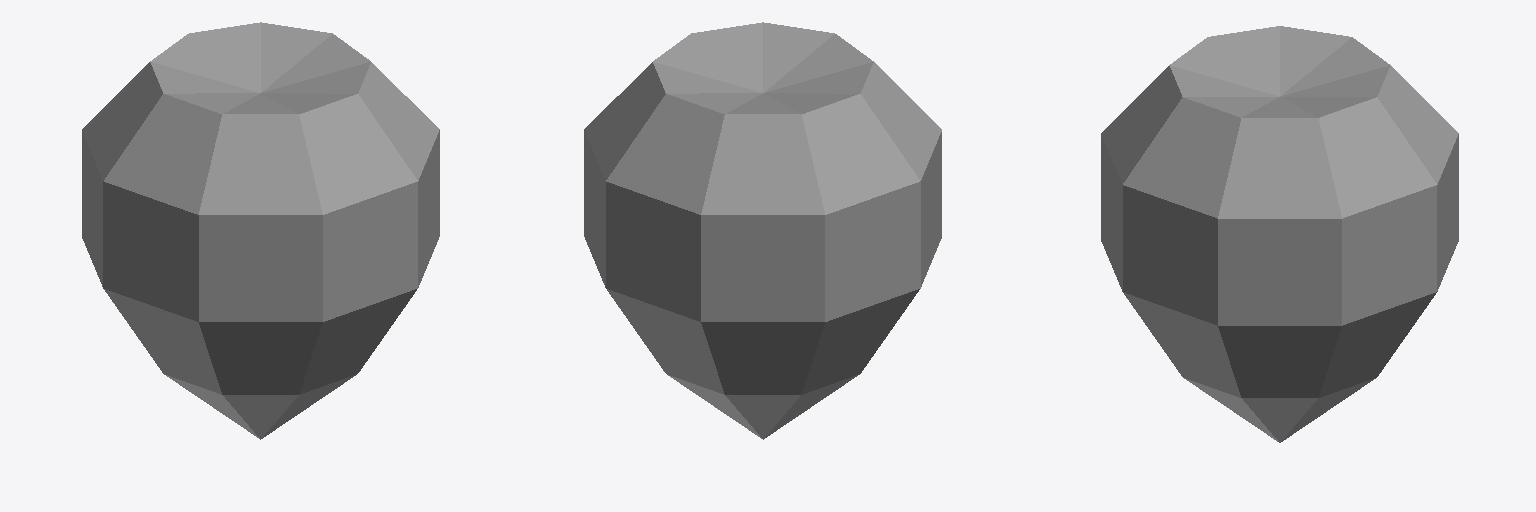
File: stone2.obj
The picture shows the model from 3 angles: view 1: azimuth 30°, elevation 25°; view 2: azimuth 150°, elevation 25°; view 3: azimuth 270°, elevation 25°; orthographic projection.
Visible parts, largest first — view 1: Sphere; view 2: Sphere; view 3: Sphere.
Part boxes in pixels (x1,y1,x2,y2): Sphere: (82, 22, 439, 439); Sphere: (584, 22, 941, 439); Sphere: (1101, 26, 1458, 442).
Size of the model in its own units: 1.84 by 2.13 by 1.87.